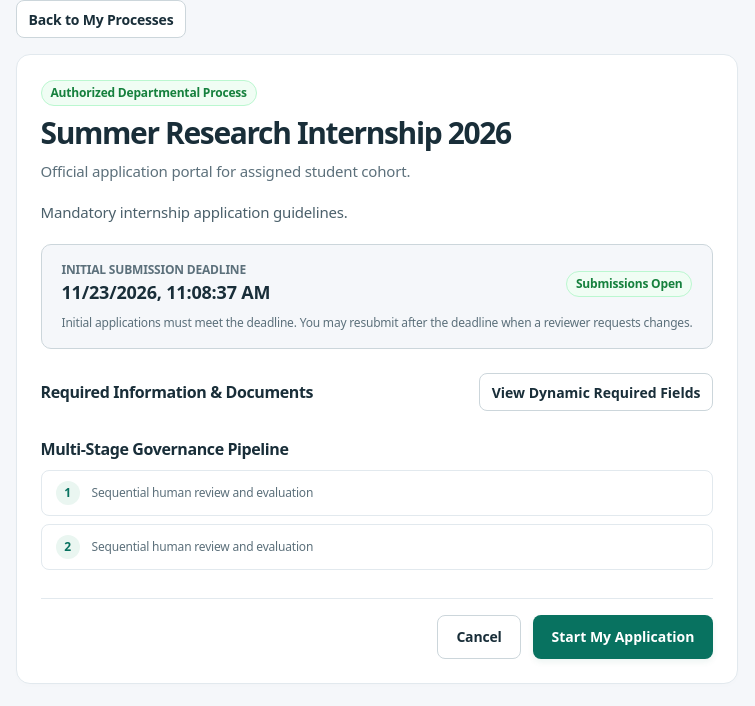
Test: P-010 Process Requirements & Start Page (T-A11Y-P010, EL-066..EL-068) › expands dynamic fields when EL-066 is clicked
This screenshot has width=755, height=706.
Click the button with test id "EL-066".
click(596, 392)  # box [479,373,713,411]
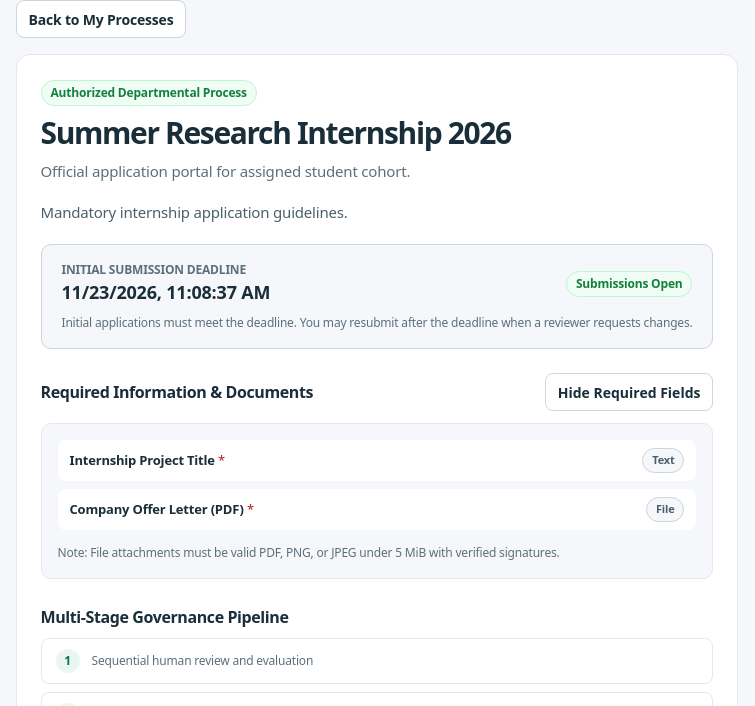
Now the text "Internship Project Title" is shown, box [70,451,215,469]
Now the text "Company Offer Letter (PDF)" is shown, box [70,500,244,518]
